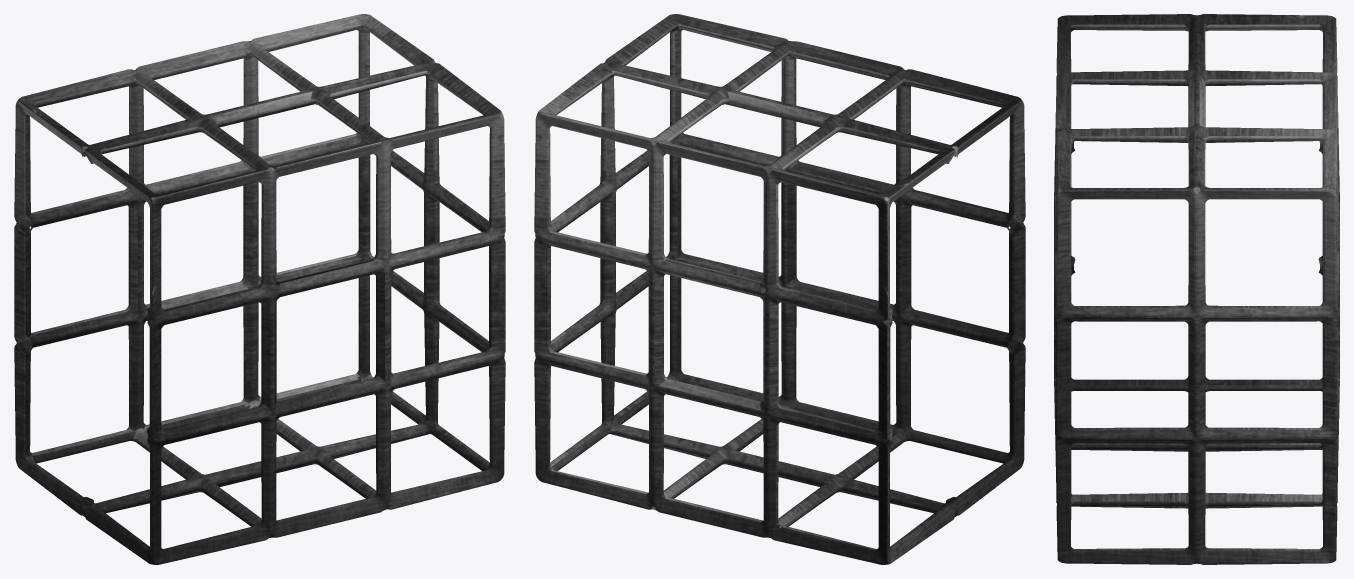
The model's file is Lvl1_cube_small.fbx.
3 renders of one model, left to right at view 1: azimuth 30°, elevation 25°; view 2: azimuth 150°, elevation 25°; view 3: azimuth 270°, elevation 25°, orthographic.
Parts seen in each view (by area): view 1: Cube small; view 2: Cube small; view 3: Cube small.
Boxes of the visible parts, box(x1,y1,x2,y2) form: Cube small: box(14, 14, 505, 564); Cube small: box(534, 14, 1025, 564); Cube small: box(1054, 14, 1339, 564).
Bounding box in the file's own units: 4.05 × 4.07 × 2.77.
1 material, 1 textured.
